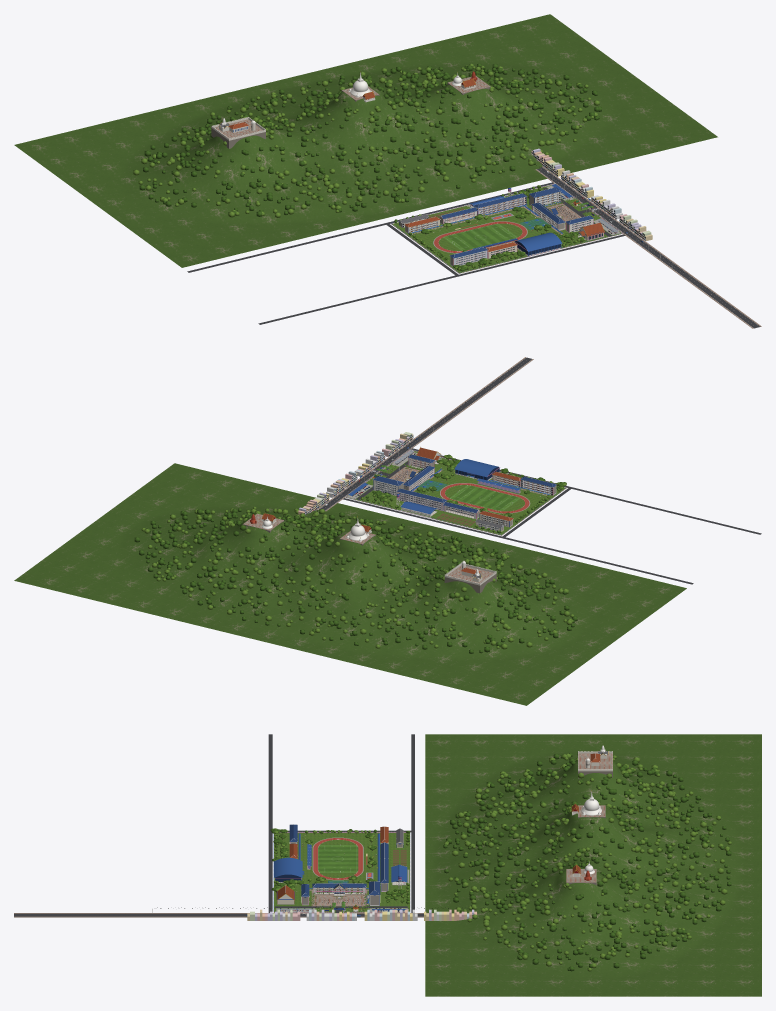
The model's file is phromanusorn_lite.glb.
3 renders of one model, top to bottom at view 1: azimuth 30°, elevation 25°; view 2: azimuth 150°, elevation 25°; view 3: azimuth 270°, elevation 25°, orthographic. The views are drawn at different scales.
Visible parts, largest first — view 1: KhaoWang_Terrain, KhaoWang_Trees, Roads, Ground_Campus, KhaoWang_Landmarks, Track_Field, Shophouses, Trees_Campus, SiteStructures, Paving, Gym_80Phansa, B4; view 2: KhaoWang_Terrain, KhaoWang_Trees, Roads, Ground_Campus, KhaoWang_Landmarks, Track_Field, Shophouses, SiteStructures, Trees_Campus, Paving, Gym_80Phansa; view 3: KhaoWang_Terrain, KhaoWang_Trees, Ground_Campus, Roads, Shophouses, KhaoWang_Landmarks, Track_Field, Trees_Campus, Paving, SiteStructures, B1_Admin, Gym_80Phansa.
Boxes of the visible parts, bbox=[...] form: KhaoWang_Terrain: bbox=[14, 14, 717, 267]; KhaoWang_Trees: bbox=[133, 63, 601, 217]; Roads: bbox=[187, 166, 761, 328]; Ground_Campus: bbox=[392, 185, 621, 273]; KhaoWang_Landmarks: bbox=[211, 71, 490, 148]; Track_Field: bbox=[433, 221, 527, 253]; Shophouses: bbox=[531, 148, 652, 240]; Trees_Campus: bbox=[394, 185, 584, 271]; SiteStructures: bbox=[391, 183, 622, 273]; Paving: bbox=[455, 185, 620, 247]; Gym_80Phansa: bbox=[515, 232, 562, 256]; B4: bbox=[474, 193, 527, 214]; KhaoWang_Terrain: bbox=[14, 463, 686, 705]; KhaoWang_Trees: bbox=[134, 506, 577, 653]; Roads: bbox=[316, 357, 761, 584]; Ground_Campus: bbox=[346, 451, 565, 535]; KhaoWang_Landmarks: bbox=[243, 513, 496, 593]; Track_Field: bbox=[440, 483, 530, 513]; Shophouses: bbox=[298, 432, 413, 514]; SiteStructures: bbox=[345, 449, 566, 535]; Trees_Campus: bbox=[361, 454, 566, 533]; Paving: bbox=[347, 452, 479, 517]; Gym_80Phansa: bbox=[454, 459, 499, 480]; KhaoWang_Terrain: bbox=[425, 734, 761, 996]; KhaoWang_Trees: bbox=[443, 752, 731, 971]; Ground_Campus: bbox=[274, 833, 409, 912]; Roads: bbox=[14, 734, 433, 917]; Shophouses: bbox=[247, 909, 476, 920]; KhaoWang_Landmarks: bbox=[566, 745, 612, 885]; Track_Field: bbox=[312, 837, 363, 880]; Trees_Campus: bbox=[270, 828, 410, 904]; Paving: bbox=[275, 853, 409, 912]; SiteStructures: bbox=[273, 832, 410, 912]; B1_Admin: bbox=[312, 883, 366, 896]; Gym_80Phansa: bbox=[274, 857, 304, 883].
Bounding box in the file's own units: 984 × 128 × 1186.
Materials: 142 (68 with a texture image).
